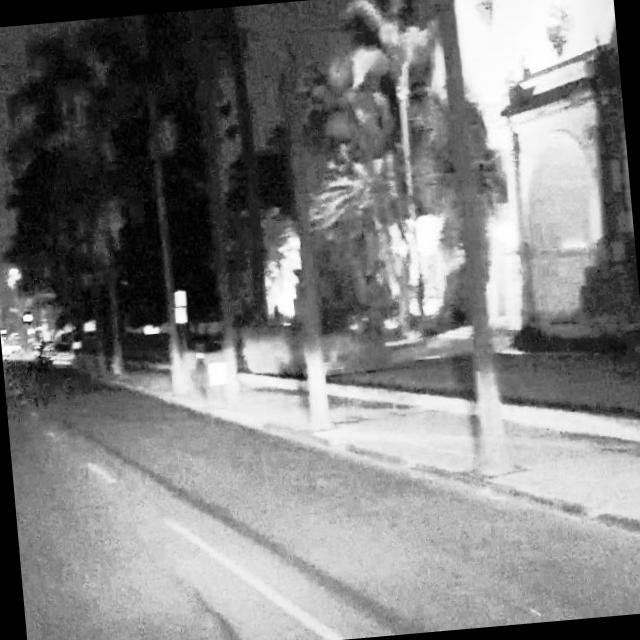Tree: (423, 0, 522, 479), (268, 0, 346, 431)
